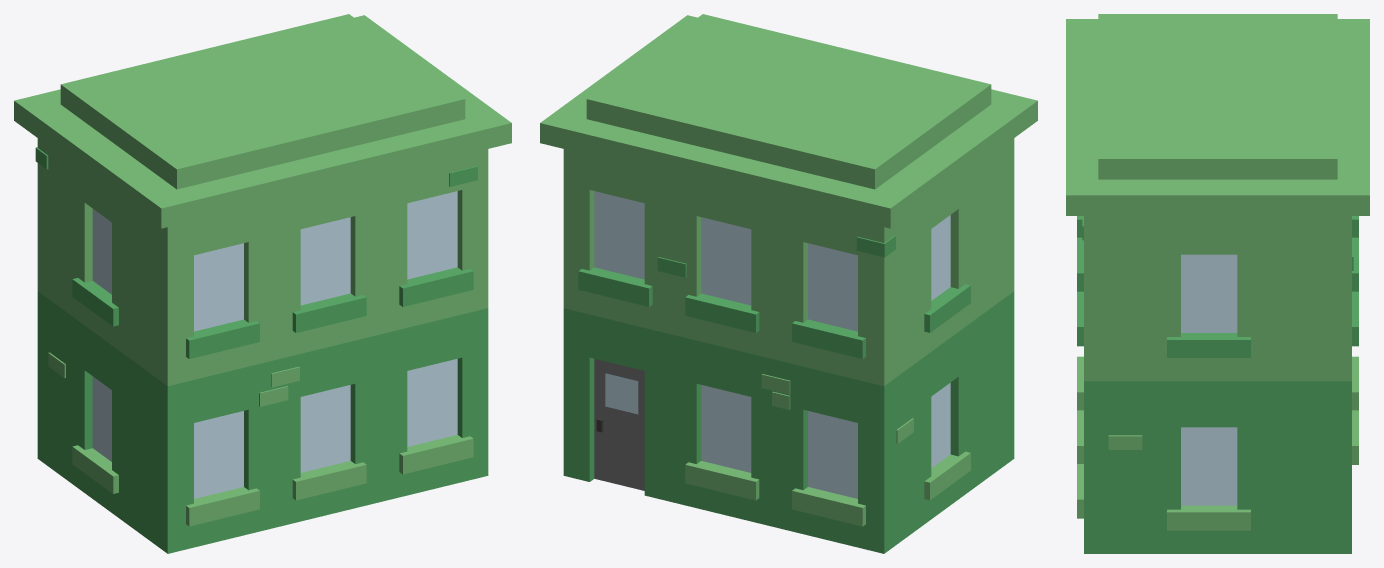
File: Building_6.fbx
3 views of the same model, side by side, from view 1: azimuth 30°, elevation 25°; view 2: azimuth 150°, elevation 25°; view 3: azimuth 270°, elevation 25° (orthographic). The views are drawn at different scales.
Visible parts, largest first — view 1: Building_6; view 2: Building_6; view 3: Building_6.
Boxes of the visible parts, x1,y1,x2,y2 form: Building_6: (14,14,511,553); Building_6: (540,14,1037,553); Building_6: (1066,14,1369,553).
Bounding box in the file's own units: 17.5 × 17.92 × 12.75.
Materials: 1 (1 with a texture image).
